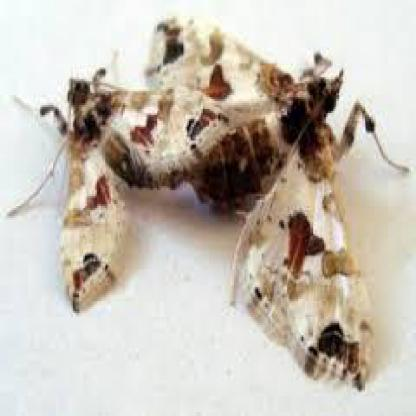leucinodes: (59, 81, 239, 317)
